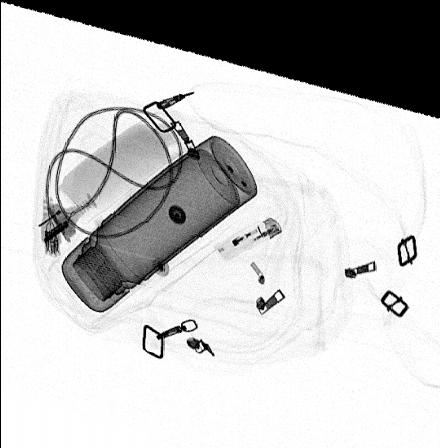Lighter: (213, 201, 281, 248)
